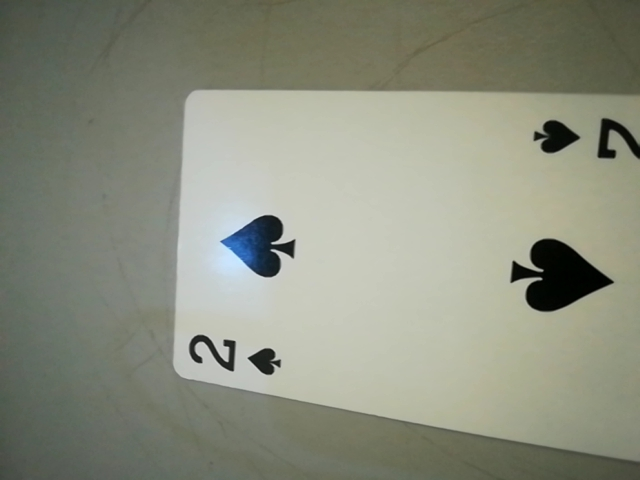ht 2: (161, 321, 300, 395)
